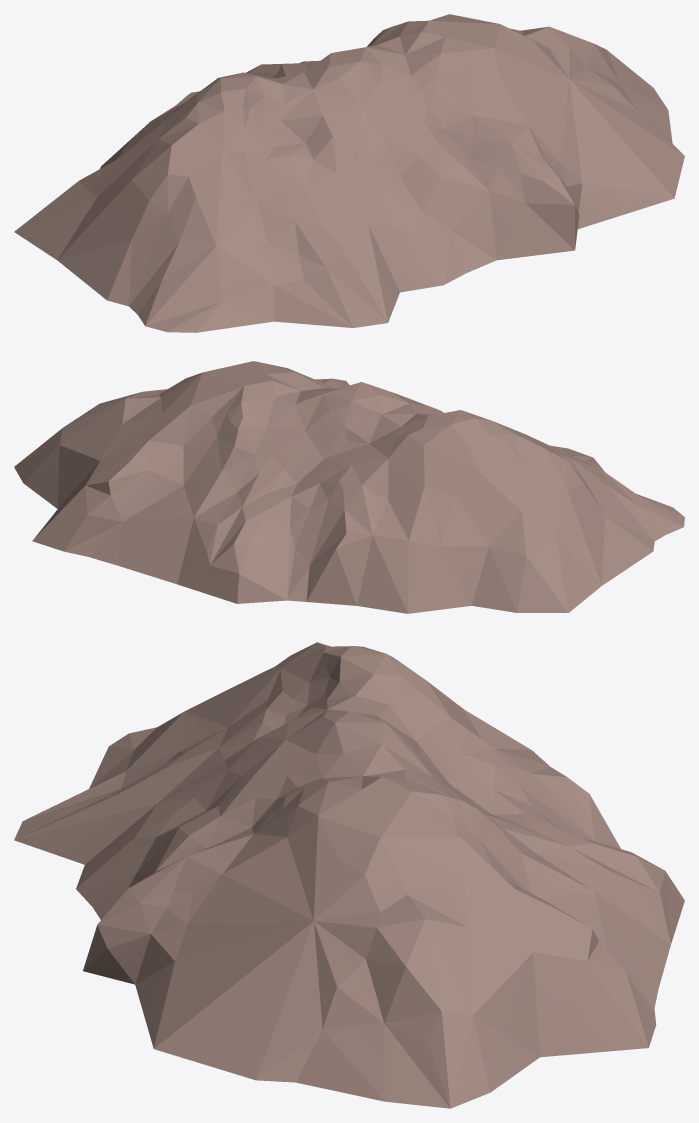
File: mountain_008.glb
3 renders of one model, top to bottom at view 1: azimuth 30°, elevation 25°; view 2: azimuth 150°, elevation 25°; view 3: azimuth 270°, elevation 25°, orthographic. The views are drawn at different scales.
Visible parts, largest first — view 1: mountain_008; view 2: mountain_008; view 3: mountain_008.
Part boxes in pixels (x1,y1,x2,y2): mountain_008: [14, 14, 684, 332]; mountain_008: [14, 361, 684, 613]; mountain_008: [14, 642, 684, 1108].
Size of the model in its own units: 769 by 168 by 569.
1 material, 1 textured.
